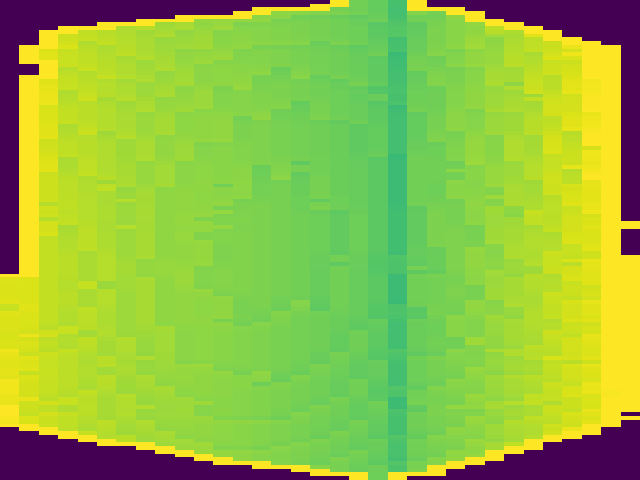cube: (1, 3, 640, 480)
